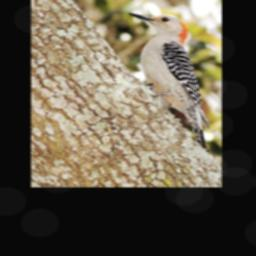Woodpecker: (126, 6, 217, 157)
